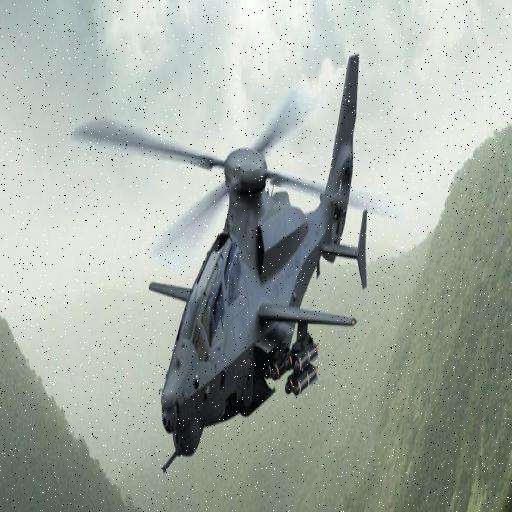helicopter: (71, 42, 379, 486)
